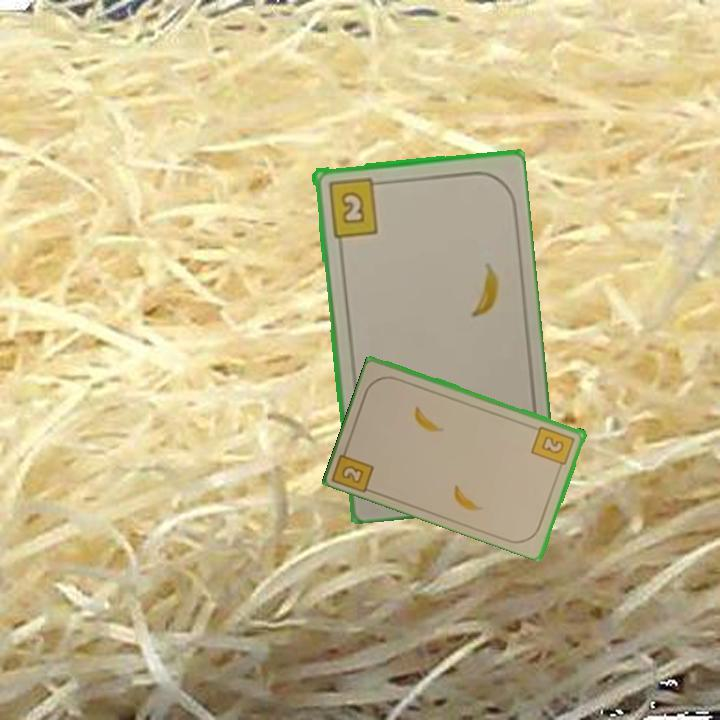2b: (324, 174, 385, 239), (528, 422, 578, 473), (331, 441, 377, 494)
